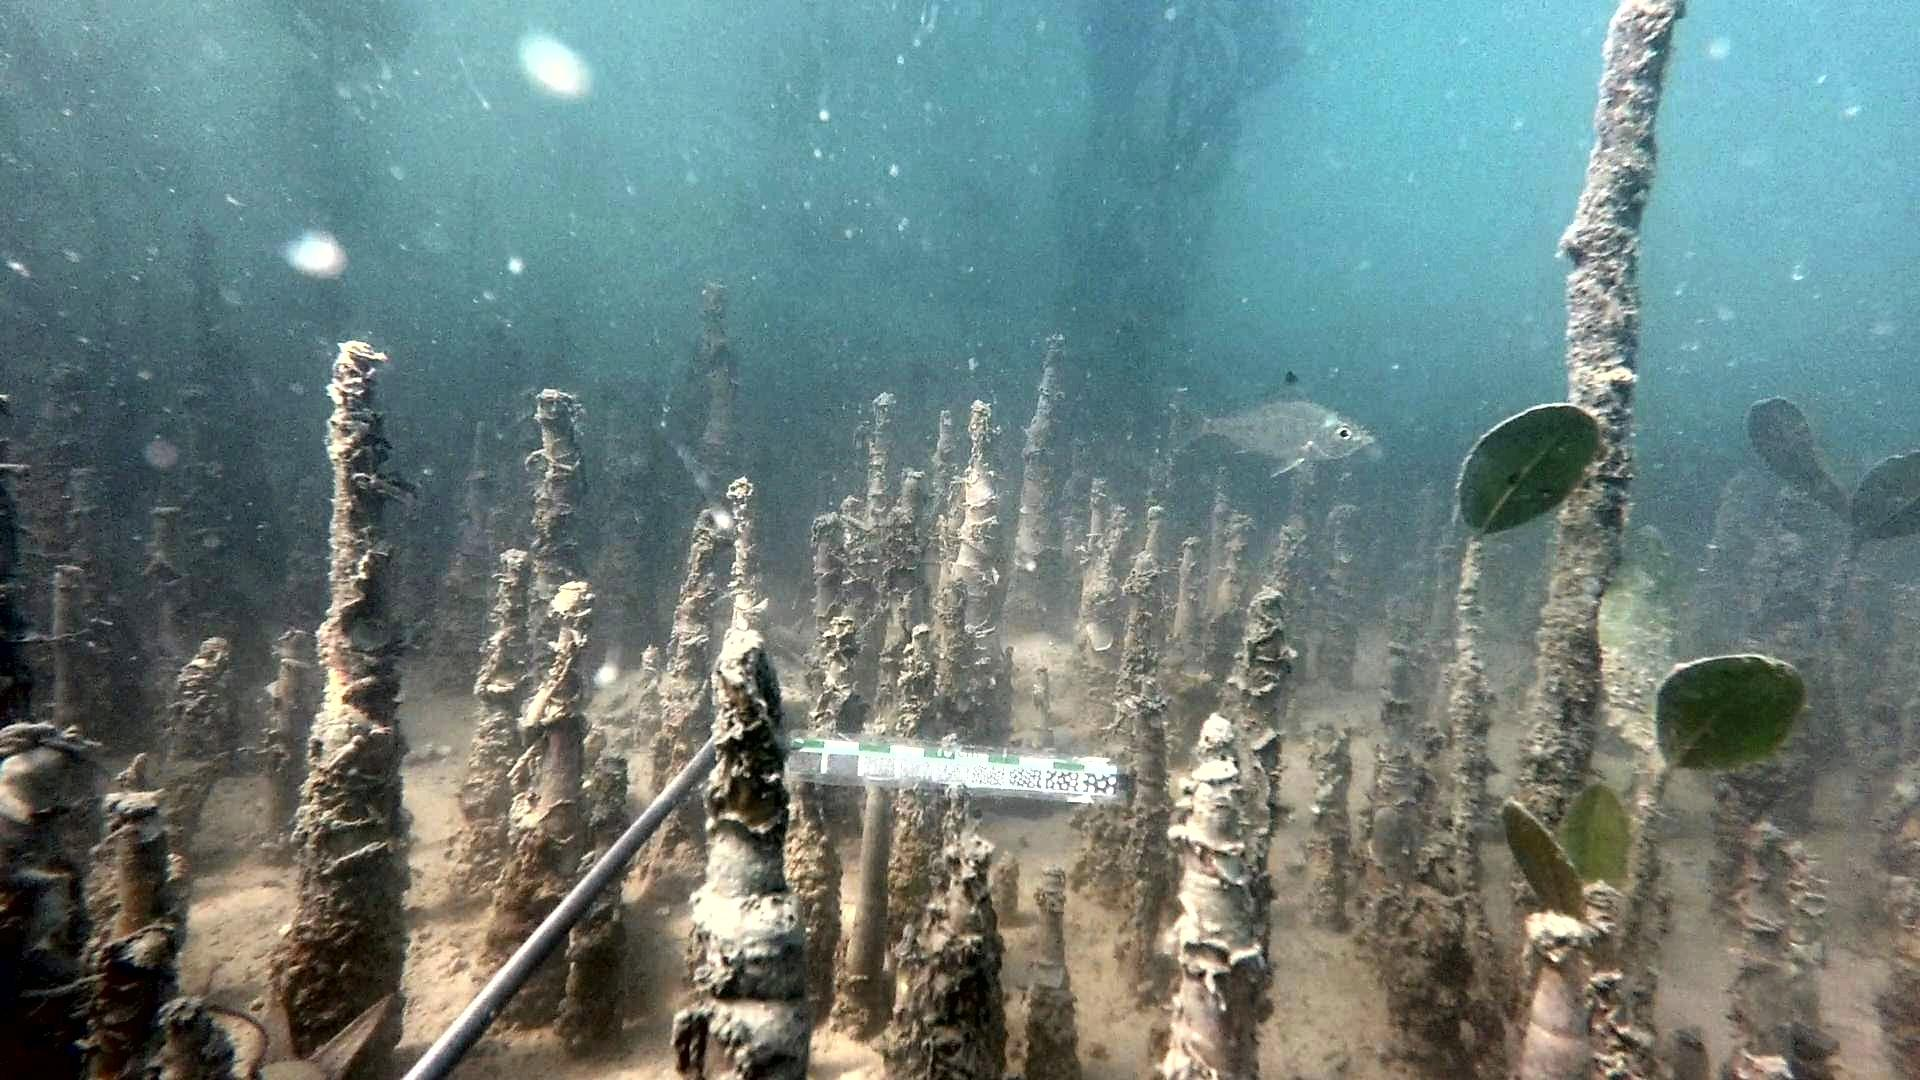gerres: (1163, 369, 1375, 479)
